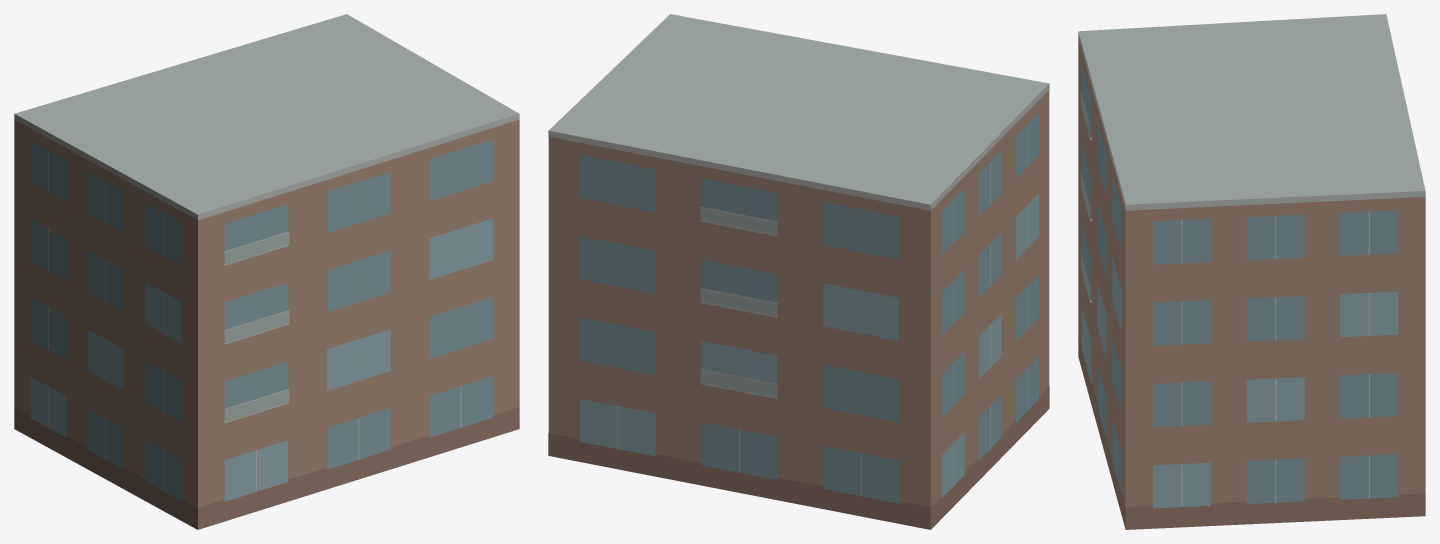
The model's file is survey-upis-32915437.glb.
3 renders of one model, left to right at view 1: azimuth 30°, elevation 25°; view 2: azimuth 150°, elevation 25°; view 3: azimuth 270°, elevation 25°, orthographic. The views are drawn at different scales.
Parts seen in each view (by area): view 1: survey-upis-32915437.tmp; view 2: survey-upis-32915437.tmp; view 3: survey-upis-32915437.tmp.
Part boxes in pixels (box(x1,y1,x2,y2)): survey-upis-32915437.tmp: box(14, 14, 519, 529); survey-upis-32915437.tmp: box(548, 14, 1049, 529); survey-upis-32915437.tmp: box(1078, 14, 1425, 529).
Size of the model in its own units: 16.74 by 13.3 by 12.89.
